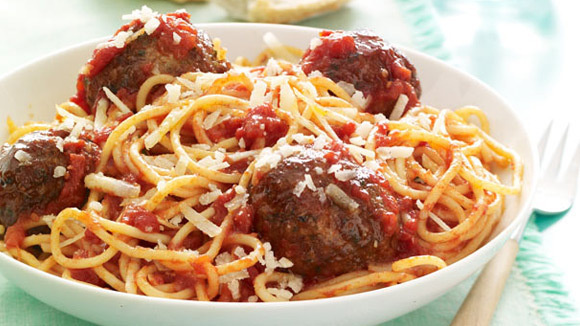meatballs: (265, 152, 393, 250)
